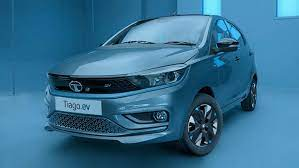Tiago: (36, 11, 261, 156)
